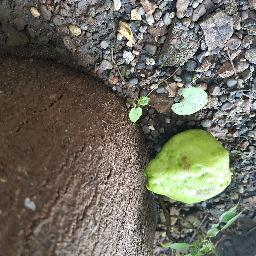Good_guava: (142, 126, 233, 216)
